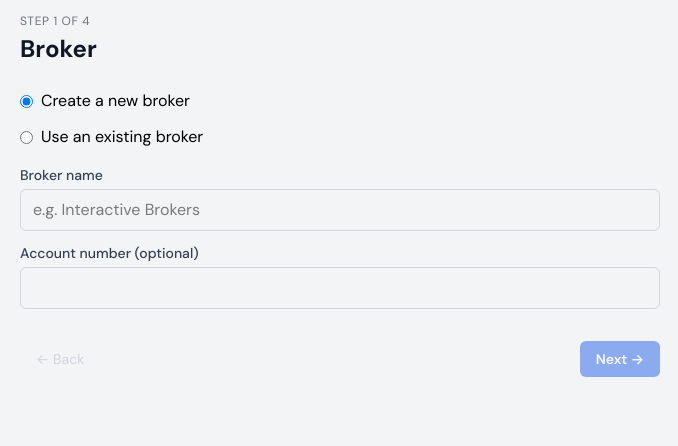
Test: <OpenBrokerageWizard /> › derives the portfolio code from the broker; blocks Next only when attaching without a pick
Expected: the heading "Broker" is shown, left=20, top=33, right=97, bottom=64
Click the radio button labelled "Create a new broker".
click(26, 101)  # box left=20, top=94, right=33, bottom=108
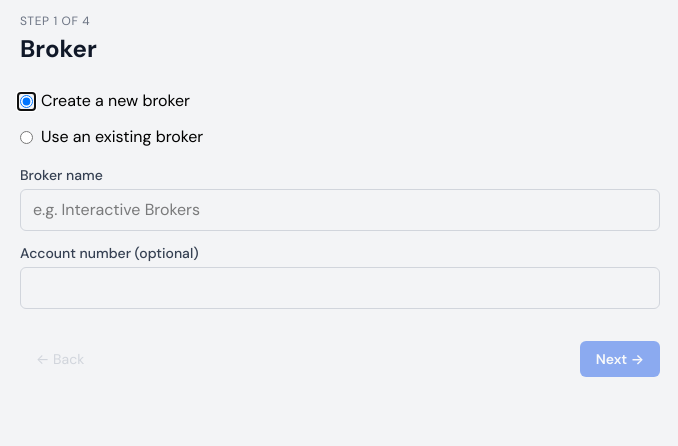
Type "Test Broker" into the field labelled "Broker name".
click(340, 210); type("Test Broker")  # box left=20, top=189, right=660, bottom=231
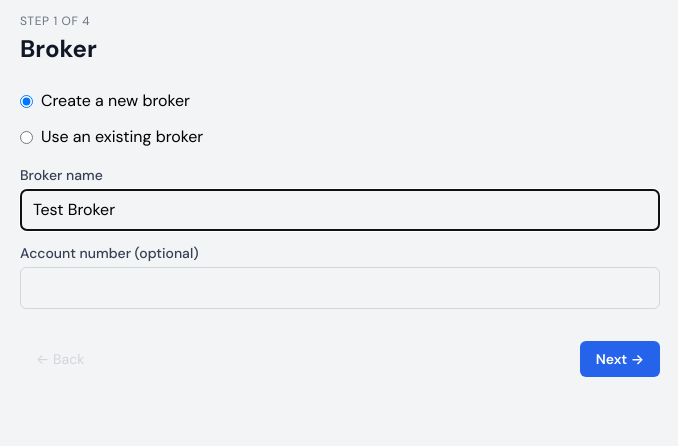
Click the button "Next →".
click(620, 359)  # box left=580, top=341, right=660, bottom=377
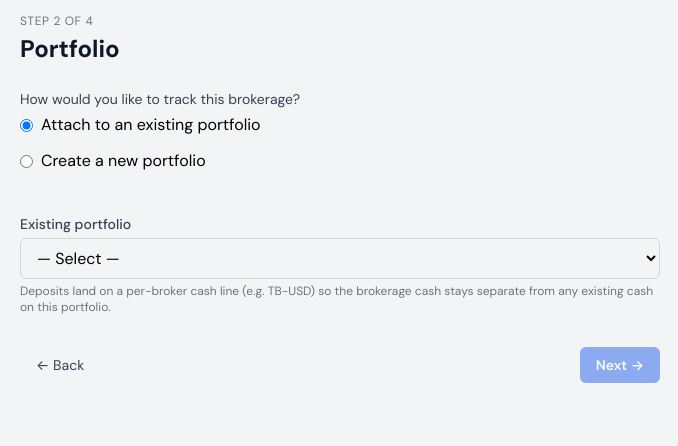
Expected: the heading "Portfolio" is shown, left=20, top=33, right=120, bottom=64
# Master mode: code derives from the broker name → Next enabled.
Click the radio button labelled "Create a new portfolio".
click(26, 161)  # box left=20, top=154, right=33, bottom=168
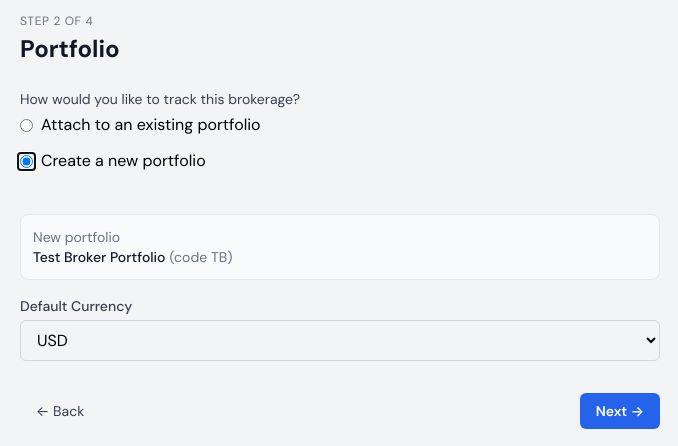
Expected: the text "(code TB)" is shown, left=170, top=248, right=232, bottom=266
Expected: the button "Next →" is enabled, left=580, top=393, right=660, bottom=429
# Switch to Zen (attach to existing) without choosing one → Next blocked.
Click the radio button labelled "Attach to an existing portfolio".
click(26, 125)  # box left=20, top=118, right=33, bottom=132
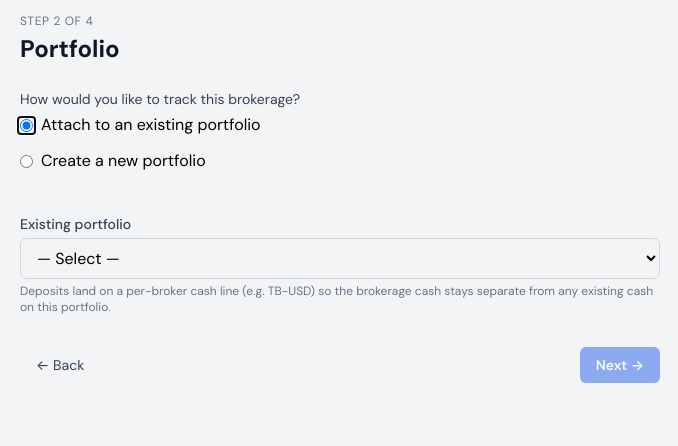
Expected: the button "Next →" is disabled, left=580, top=347, right=660, bottom=383
